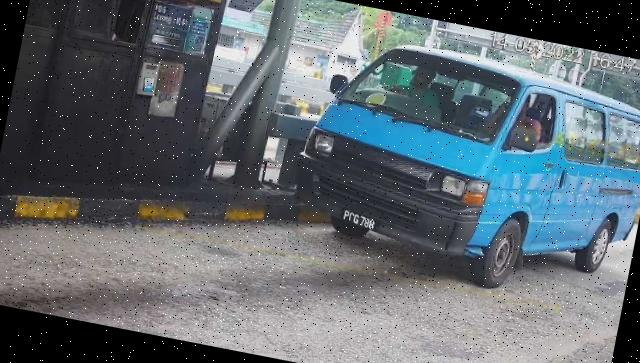License_Plate: (342, 207, 380, 233)
van: (280, 27, 640, 314)
